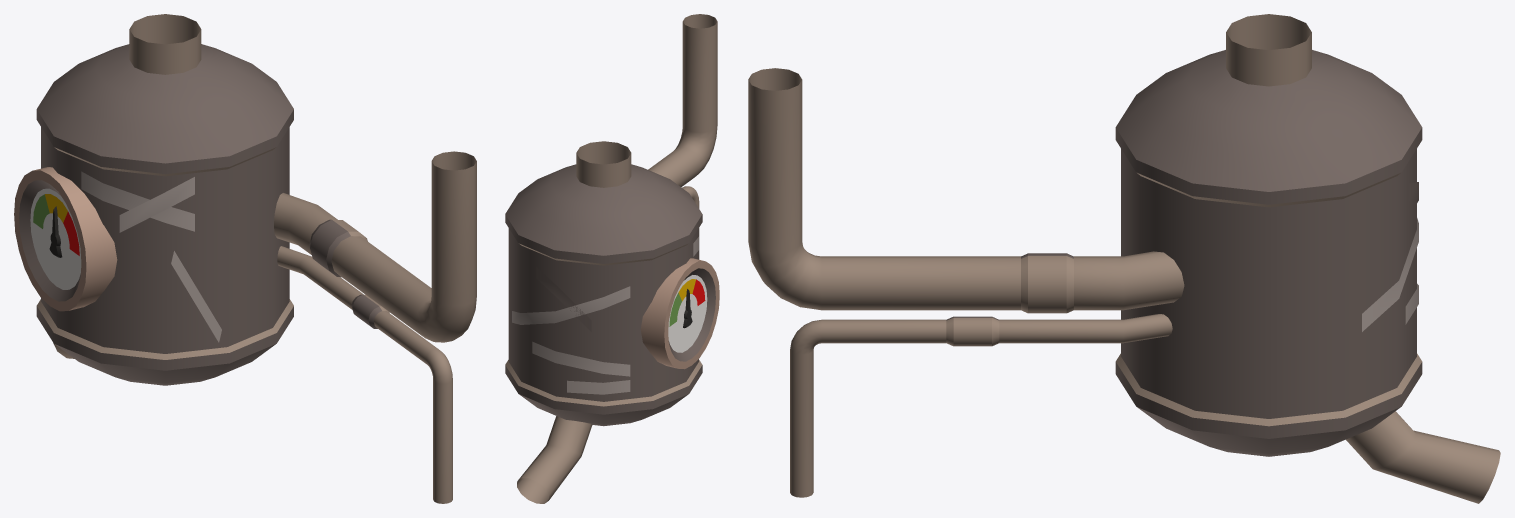
Rendered from Boiler Repaired.fbx.
3 views of the same model, side by side, from view 1: azimuth 30°, elevation 25°; view 2: azimuth 150°, elevation 25°; view 3: azimuth 270°, elevation 25° (orthographic). The views are drawn at different scales.
Parts seen in each view (by area): view 1: Boiler001; view 2: Boiler001; view 3: Boiler001.
Part boxes in pixels (bbox=[...]): Boiler001: bbox=[14, 14, 476, 503]; Boiler001: bbox=[505, 14, 719, 503]; Boiler001: bbox=[748, 14, 1500, 503].
Bounding box in the file's own units: 137 × 330 × 227.
